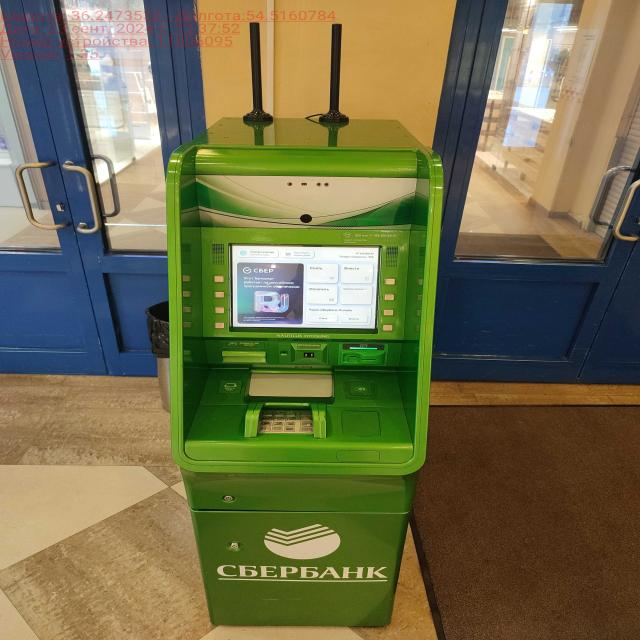bank: (167, 115, 436, 626)
